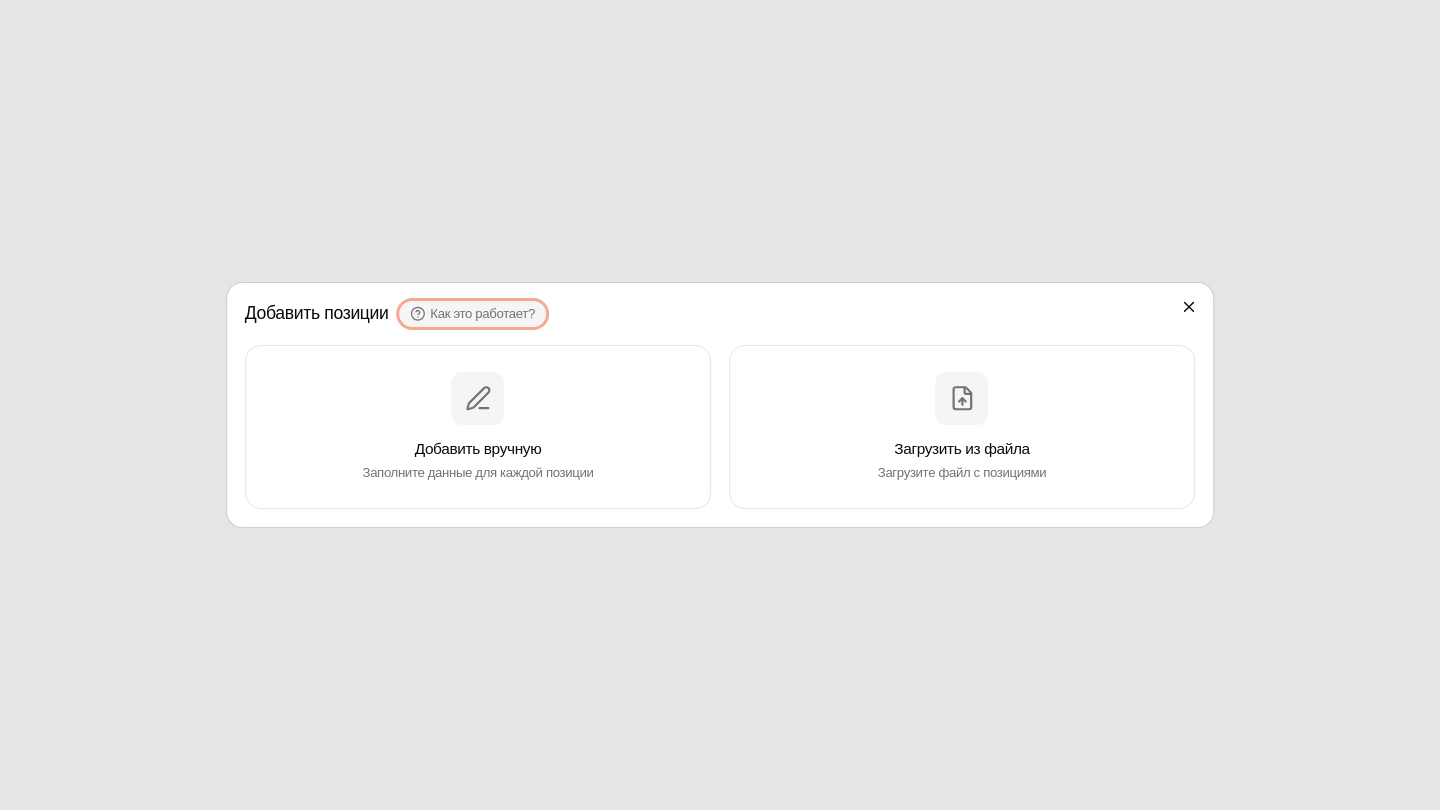
AddPositionsDialog › «Назад» on the upload step returns to the choice screen
Click the button "Загрузить из файла Загрузите файл с позициями" at coordinates (962, 427), box [729,345,1195,509]
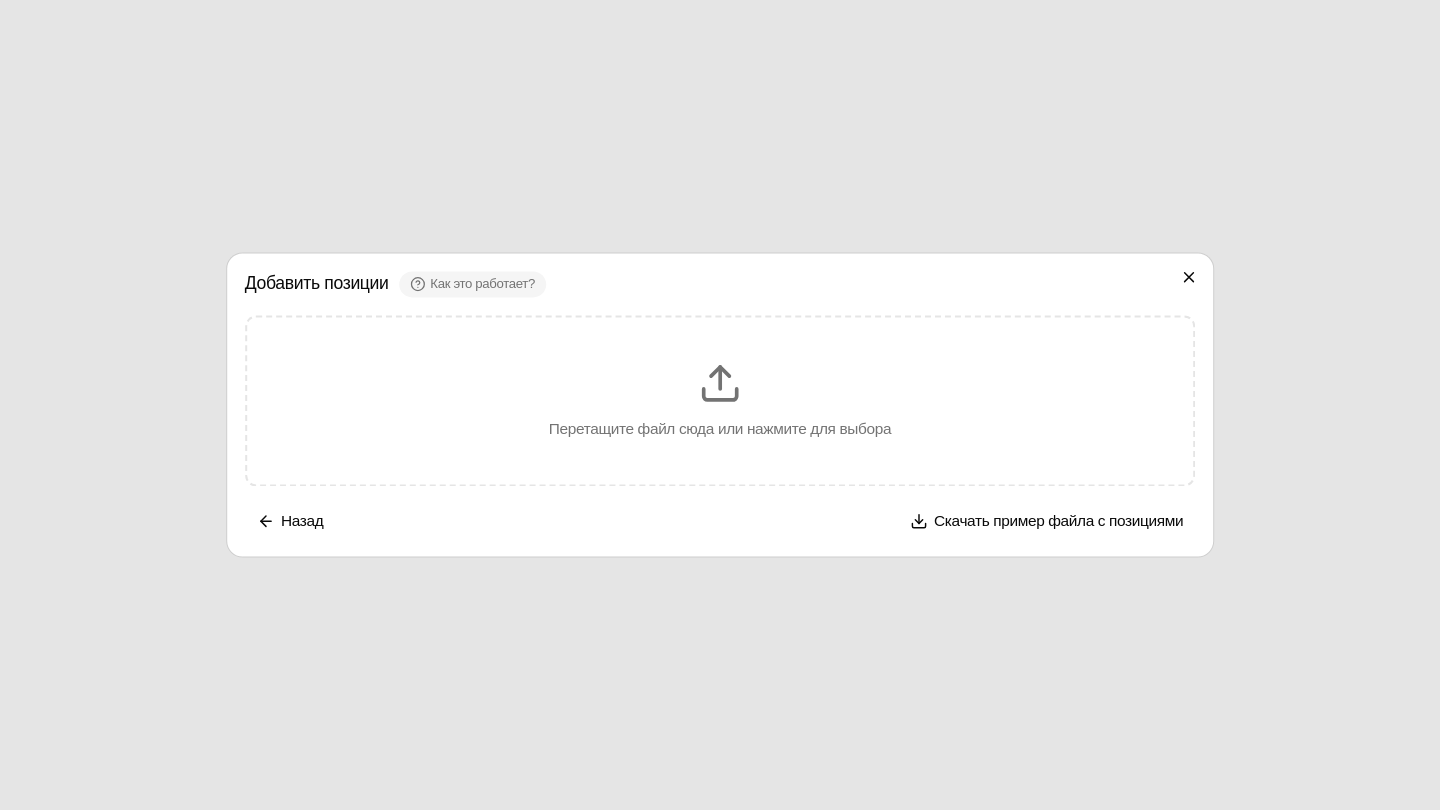
Click the button "Назад" at coordinates (290, 521), box [245,504,335,539]
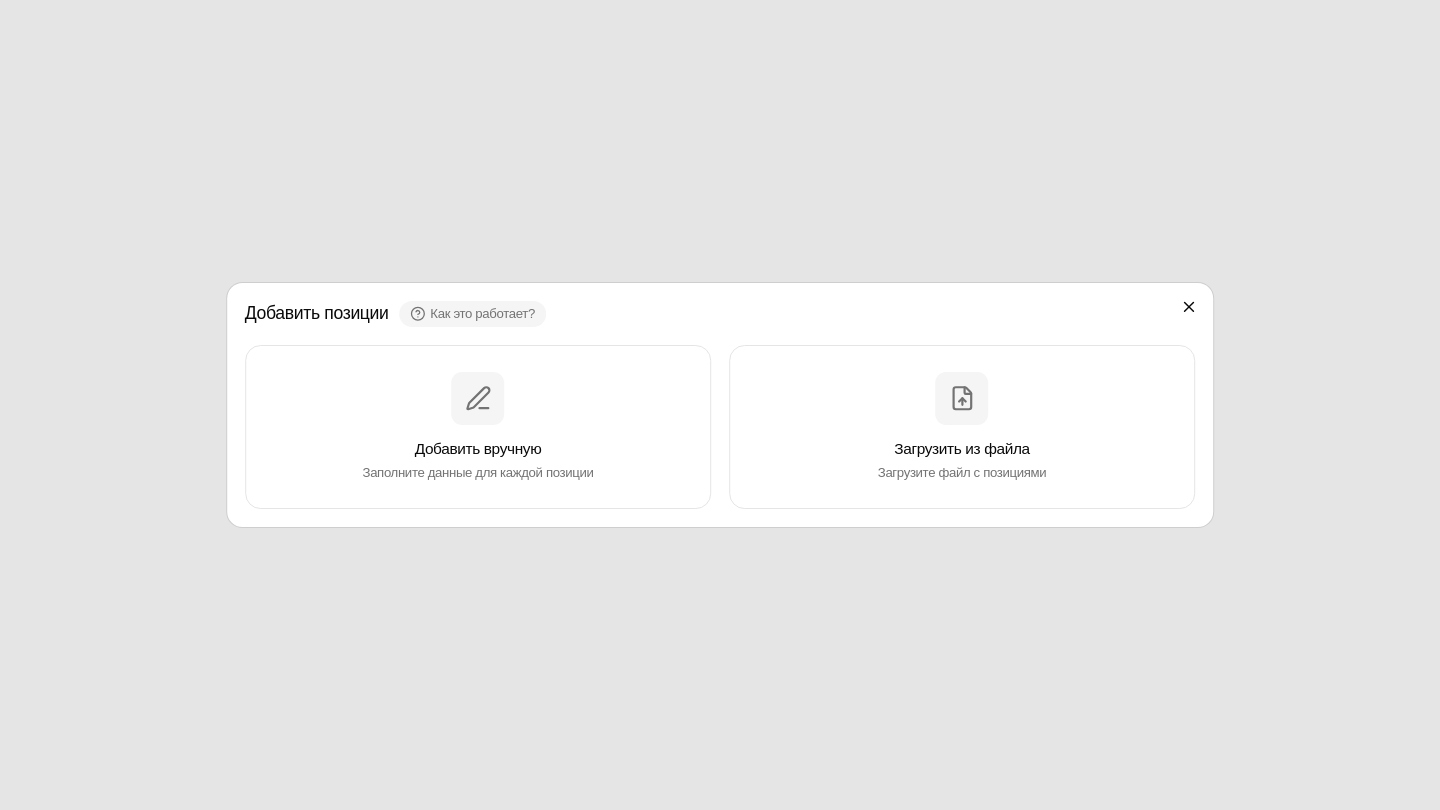
Now the button "Добавить вручную Заполните данные для каждой позиции" is shown, box [245,345,711,509]
Now the button with test id "dropzone" is gone
